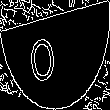O_N: (40, 26, 70, 84)
